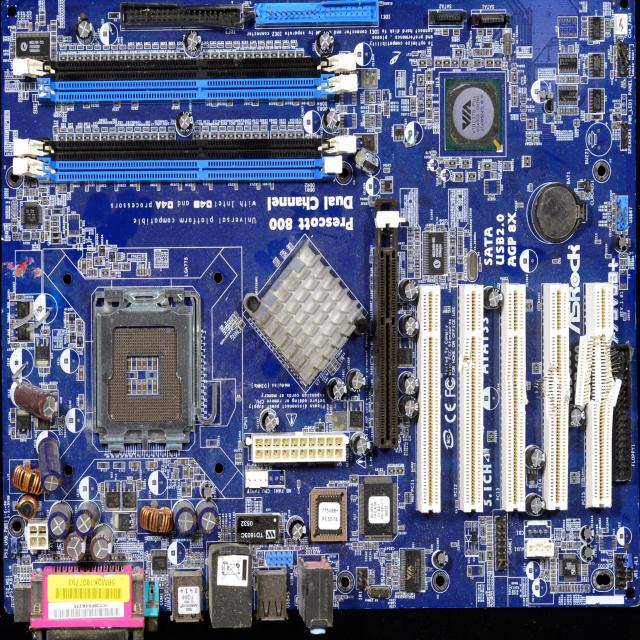Capacitor Jumper: (146, 462, 158, 468), (82, 260, 87, 273), (206, 440, 216, 446), (130, 462, 140, 468), (79, 366, 83, 380), (178, 459, 188, 464), (184, 466, 188, 478), (187, 483, 190, 496), (160, 44, 167, 49), (136, 183, 140, 191), (70, 184, 74, 192), (401, 592, 407, 597), (111, 46, 118, 50), (562, 531, 566, 538), (392, 570, 399, 574), (256, 183, 260, 190), (85, 184, 89, 191), (145, 44, 150, 49), (518, 202, 523, 207), (582, 32, 588, 36), (283, 42, 289, 46), (291, 42, 297, 46), (250, 43, 256, 47), (242, 43, 248, 47), (226, 43, 232, 47), (235, 454, 241, 458), (169, 44, 175, 48), (177, 44, 183, 48), (128, 45, 134, 49), (173, 468, 179, 472), (379, 471, 385, 475), (60, 46, 66, 50), (101, 494, 104, 502), (279, 525, 285, 529), (412, 52, 418, 56), (369, 542, 372, 550), (425, 550, 431, 554), (125, 553, 128, 561), (582, 564, 588, 568), (392, 578, 398, 582), (558, 585, 561, 593), (395, 592, 401, 596), (409, 592, 415, 596), (293, 101, 299, 105), (173, 102, 179, 106), (84, 104, 90, 108), (296, 126, 302, 130), (236, 126, 242, 130), (252, 126, 258, 130), (220, 126, 226, 130), (168, 127, 174, 131), (68, 128, 74, 132), (76, 128, 82, 132), (110, 128, 116, 132), (581, 191, 584, 199), (38, 193, 42, 199), (370, 202, 376, 206), (595, 240, 601, 244), (66, 314, 69, 321), (326, 415, 329, 422), (232, 526, 235, 533), (392, 586, 399, 589), (566, 585, 569, 592), (569, 585, 572, 592), (611, 71, 614, 78), (226, 102, 233, 105), (445, 160, 448, 167), (235, 182, 238, 189), (157, 183, 160, 190), (45, 233, 48, 240), (29, 23, 32, 30), (70, 46, 75, 50), (399, 526, 404, 530), (277, 101, 282, 105), (68, 104, 73, 108), (280, 126, 285, 130), (245, 126, 250, 130), (160, 127, 165, 131), (441, 228, 446, 232), (454, 28, 459, 32), (443, 28, 448, 32), (487, 28, 492, 32), (477, 29, 483, 32), (453, 32, 459, 35), (258, 43, 264, 46), (267, 43, 273, 46), (218, 44, 224, 47), (210, 44, 216, 47), (120, 46, 126, 49), (95, 46, 101, 49), (86, 46, 92, 49), (51, 47, 57, 50), (222, 528, 225, 534), (257, 542, 260, 548), (487, 547, 493, 550), (392, 554, 398, 557), (550, 559, 556, 562), (487, 561, 493, 564), (487, 564, 493, 567), (582, 568, 588, 571), (582, 572, 588, 575), (164, 576, 167, 582), (425, 578, 431, 581), (368, 580, 374, 583), (561, 585, 564, 591), (550, 586, 553, 592), (114, 104, 120, 107), (132, 104, 138, 107), (288, 126, 294, 129), (261, 126, 267, 129), (228, 127, 234, 130), (194, 127, 200, 130), (551, 126, 554, 132), (135, 128, 141, 131), (102, 128, 108, 131), (93, 128, 99, 131), (438, 157, 444, 160), (384, 169, 390, 172), (61, 185, 64, 191), (35, 190, 38, 196), (45, 210, 48, 216), (44, 221, 50, 224), (44, 224, 50, 227), (44, 228, 50, 231), (450, 257, 456, 260), (552, 260, 558, 263), (13, 32, 15, 40), (276, 42, 280, 46), (239, 441, 241, 449), (298, 480, 300, 488), (47, 554, 49, 562), (342, 595, 346, 599), (144, 127, 148, 131), (30, 188, 32, 196), (431, 224, 433, 232), (36, 22, 38, 30), (90, 260, 92, 268), (70, 328, 75, 331), (443, 32, 448, 35), (487, 32, 492, 35), (352, 397, 357, 400), (203, 44, 208, 47), (236, 459, 241, 462), (189, 461, 194, 464), (153, 45, 158, 48), (137, 46, 142, 49), (78, 46, 83, 49), (352, 547, 357, 550), (551, 566, 556, 569), (551, 574, 556, 577), (369, 575, 374, 578), (15, 578, 20, 581), (551, 581, 556, 584), (212, 102, 217, 105), (56, 105, 61, 108), (427, 120, 432, 123), (272, 126, 277, 129), (203, 127, 208, 130), (152, 128, 157, 131), (85, 128, 90, 131), (119, 128, 124, 131), (605, 22, 610, 25), (450, 242, 455, 245), (402, 246, 407, 249), (330, 415, 332, 422), (614, 47, 616, 54), (574, 542, 576, 549), (129, 554, 131, 561), (112, 554, 114, 561), (41, 555, 43, 562), (614, 56, 616, 63), (410, 87, 412, 94), (585, 114, 587, 121), (210, 183, 212, 190), (192, 183, 194, 190), (97, 184, 99, 191), (478, 32, 482, 35), (104, 46, 108, 49), (228, 527, 230, 533), (225, 528, 227, 534), (487, 544, 493, 546), (61, 550, 65, 553), (148, 555, 150, 561), (550, 563, 556, 565), (52, 58, 56, 61), (212, 127, 216, 130), (54, 136, 56, 142), (48, 206, 54, 208), (415, 234, 419, 237), (51, 44, 56, 46), (234, 44, 239, 46), (551, 570, 556, 572), (551, 578, 556, 580), (56, 109, 61, 111), (127, 128, 132, 130), (61, 129, 66, 131), (415, 246, 420, 248), (415, 262, 420, 264), (450, 269, 455, 271), (415, 275, 420, 277)
Connector: (31, 570, 150, 640), (42, 76, 337, 100), (44, 136, 330, 159), (44, 159, 328, 181), (457, 286, 485, 508), (500, 283, 526, 512), (541, 283, 566, 512), (585, 284, 610, 509), (418, 286, 441, 509), (38, 60, 332, 77), (377, 218, 397, 454), (209, 547, 254, 640), (121, 5, 244, 29), (296, 558, 332, 636), (168, 570, 202, 630), (258, 570, 284, 628)
IC: (360, 476, 397, 537), (310, 486, 348, 541), (400, 550, 426, 592), (16, 33, 51, 58), (18, 198, 43, 229), (559, 553, 582, 582), (558, 52, 578, 76), (588, 52, 604, 78), (588, 88, 604, 113), (589, 16, 605, 41), (559, 85, 577, 106)
Resistor Jumper: (16, 294, 24, 300), (138, 480, 142, 491), (41, 329, 49, 334), (12, 343, 20, 348), (12, 428, 16, 438), (51, 216, 59, 221), (52, 227, 59, 232), (101, 483, 104, 494), (41, 231, 44, 242), (48, 385, 56, 389), (128, 534, 136, 538), (480, 170, 484, 178), (38, 188, 46, 192), (41, 200, 49, 204), (51, 222, 59, 226), (62, 417, 65, 427), (468, 40, 472, 47), (112, 266, 119, 270), (56, 418, 59, 426), (20, 435, 26, 439), (279, 515, 285, 519), (10, 52, 16, 56), (286, 538, 289, 546), (352, 542, 358, 546), (376, 542, 379, 550), (392, 566, 398, 570), (23, 566, 26, 574), (21, 566, 24, 574), (556, 76, 560, 82), (623, 80, 626, 88), (480, 161, 483, 169), (450, 235, 456, 239), (110, 274, 116, 278), (599, 528, 602, 535), (289, 539, 292, 546), (567, 542, 570, 549), (373, 542, 376, 549), (184, 560, 187, 567), (26, 567, 29, 574), (164, 591, 167, 598), (429, 58, 432, 65), (426, 59, 429, 66), (411, 62, 418, 65), (562, 76, 565, 83), (560, 107, 563, 114), (573, 108, 576, 115), (576, 108, 579, 115), (612, 122, 615, 129), (56, 127, 59, 134), (58, 185, 61, 192), (17, 189, 20, 196), (578, 192, 581, 199), (112, 263, 119, 266), (106, 262, 109, 269), (122, 263, 125, 270), (144, 268, 147, 275), (148, 269, 151, 276), (95, 270, 98, 277), (236, 397, 241, 401), (480, 517, 485, 521), (358, 546, 363, 550), (172, 565, 177, 569), (411, 104, 416, 108), (434, 118, 439, 122), (431, 154, 436, 158), (607, 208, 612, 212), (450, 228, 455, 232), (87, 260, 89, 270), (415, 264, 420, 268), (415, 268, 420, 272), (415, 271, 420, 275), (11, 28, 16, 32), (378, 2, 384, 5), (76, 320, 82, 323), (10, 329, 13, 335), (40, 335, 46, 338), (58, 36, 64, 39), (173, 472, 176, 478), (127, 480, 133, 483), (568, 46, 571, 52), (484, 49, 487, 55), (480, 521, 486, 524), (358, 543, 364, 546), (578, 542, 581, 548), (608, 560, 614, 563), (258, 563, 264, 566), (582, 57, 588, 60), (164, 584, 167, 590), (573, 76, 576, 82), (308, 102, 314, 105), (521, 109, 527, 112), (615, 109, 621, 112), (568, 108, 571, 114), (555, 116, 561, 119), (576, 120, 579, 126), (526, 134, 532, 137), (584, 193, 590, 196), (489, 195, 495, 198), (414, 237, 420, 240), (450, 239, 456, 242), (136, 269, 139, 275), (435, 276, 438, 282), (538, 302, 540, 310), (201, 552, 203, 560), (30, 566, 32, 574), (522, 77, 524, 85), (495, 171, 497, 179), (79, 261, 81, 269), (139, 268, 141, 276), (142, 268, 144, 276), (90, 269, 92, 277), (605, 29, 610, 32), (582, 29, 587, 32), (605, 33, 610, 36), (404, 424, 409, 427), (309, 429, 314, 432), (459, 45, 464, 48), (353, 532, 358, 535), (608, 552, 613, 555), (257, 552, 262, 555), (257, 555, 262, 558), (259, 560, 264, 563), (511, 64, 516, 67), (512, 69, 517, 72), (521, 93, 526, 96), (521, 96, 526, 99), (521, 100, 526, 103), (521, 105, 526, 108), (434, 108, 439, 111), (434, 112, 439, 115), (521, 114, 526, 117), (521, 117, 526, 120), (534, 134, 539, 137), (534, 139, 539, 142), (605, 19, 610, 22), (12, 201, 17, 204), (607, 205, 612, 208), (12, 208, 17, 211), (12, 219, 17, 222), (607, 220, 612, 223), (12, 222, 17, 225), (415, 227, 420, 230), (415, 231, 420, 234), (415, 250, 420, 253), (415, 258, 420, 261), (620, 266, 625, 269), (110, 271, 115, 274), (451, 283, 456, 286), (67, 335, 69, 342), (59, 418, 61, 425), (176, 472, 178, 479), (469, 49, 471, 56), (487, 49, 489, 56), (570, 542, 572, 549), (564, 585, 566, 592), (588, 585, 590, 592), (611, 56, 613, 63), (470, 60, 472, 67), (568, 76, 570, 83), (571, 76, 573, 83), (576, 76, 578, 83), (62, 105, 64, 112), (65, 105, 67, 112), (566, 108, 568, 115), (574, 119, 576, 126), (615, 122, 617, 129), (492, 163, 494, 170), (35, 232, 37, 239), (96, 245, 98, 252), (88, 270, 90, 277), (66, 322, 68, 328), (76, 324, 82, 326), (371, 404, 373, 410), (175, 462, 177, 468), (571, 46, 573, 52), (482, 538, 486, 541), (186, 550, 188, 556), (195, 553, 197, 559), (191, 553, 193, 559), (198, 553, 200, 559), (44, 556, 46, 562), (18, 567, 20, 573), (564, 108, 566, 114), (571, 108, 573, 114), (527, 139, 531, 142), (20, 189, 22, 195), (12, 212, 18, 214), (112, 248, 118, 250), (106, 252, 108, 258), (626, 258, 628, 264), (622, 259, 624, 265), (92, 270, 94, 276), (452, 273, 456, 276), (430, 276, 434, 279), (452, 276, 456, 279), (452, 279, 456, 282), (440, 280, 446, 282), (371, 412, 373, 417), (404, 422, 409, 424), (338, 484, 343, 486), (411, 109, 416, 111), (12, 205, 17, 207), (12, 216, 17, 218), (607, 224, 612, 226), (415, 255, 420, 257), (605, 26, 610, 28), (59, 40, 63, 42), (336, 596, 340, 598), (458, 232, 462, 234)
Transistor: (9, 301, 35, 321), (121, 480, 137, 511), (36, 336, 51, 367), (106, 480, 120, 513), (11, 323, 33, 339)
